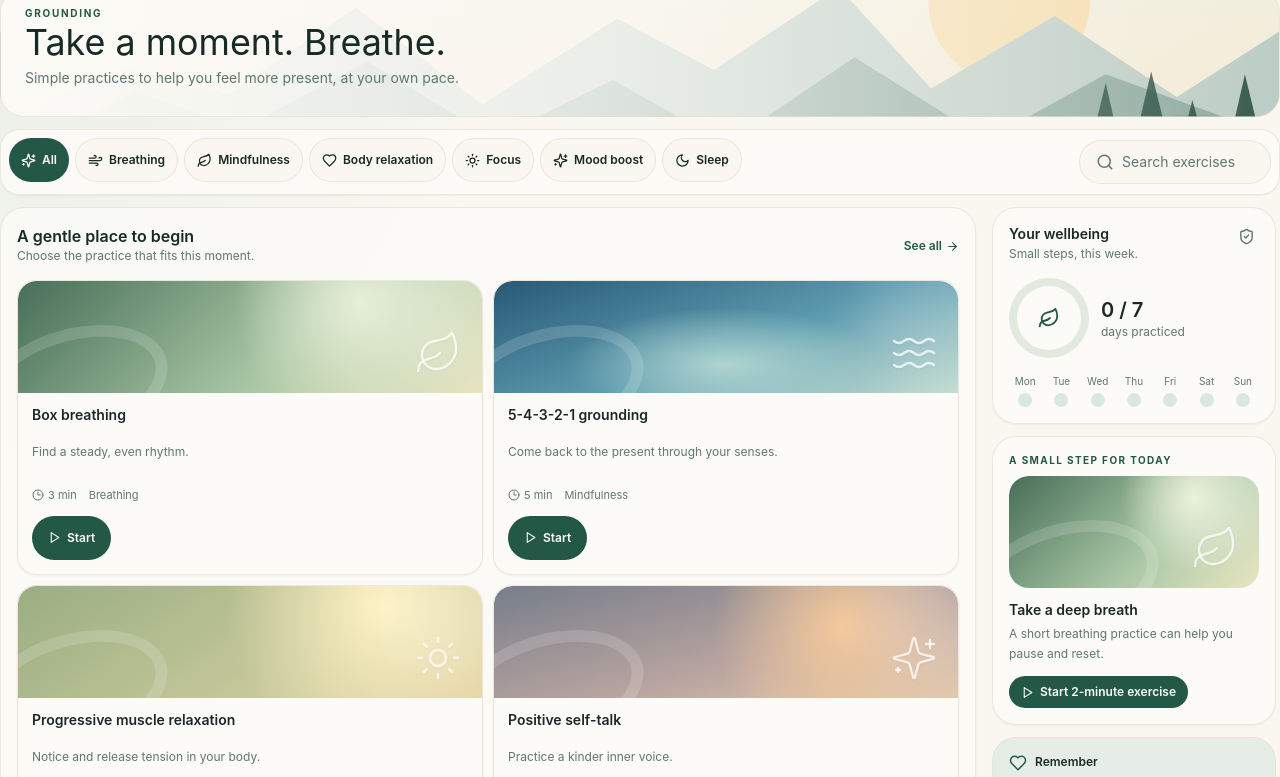
Test case: GroundingView › keeps sensory steps, reset, and browse usable in the session
This screenshot has width=1280, height=777.
Click the button with aria-label "Start 5-4-3-2-1 grounding". click: (548, 538)
box: [508,516,587,560]
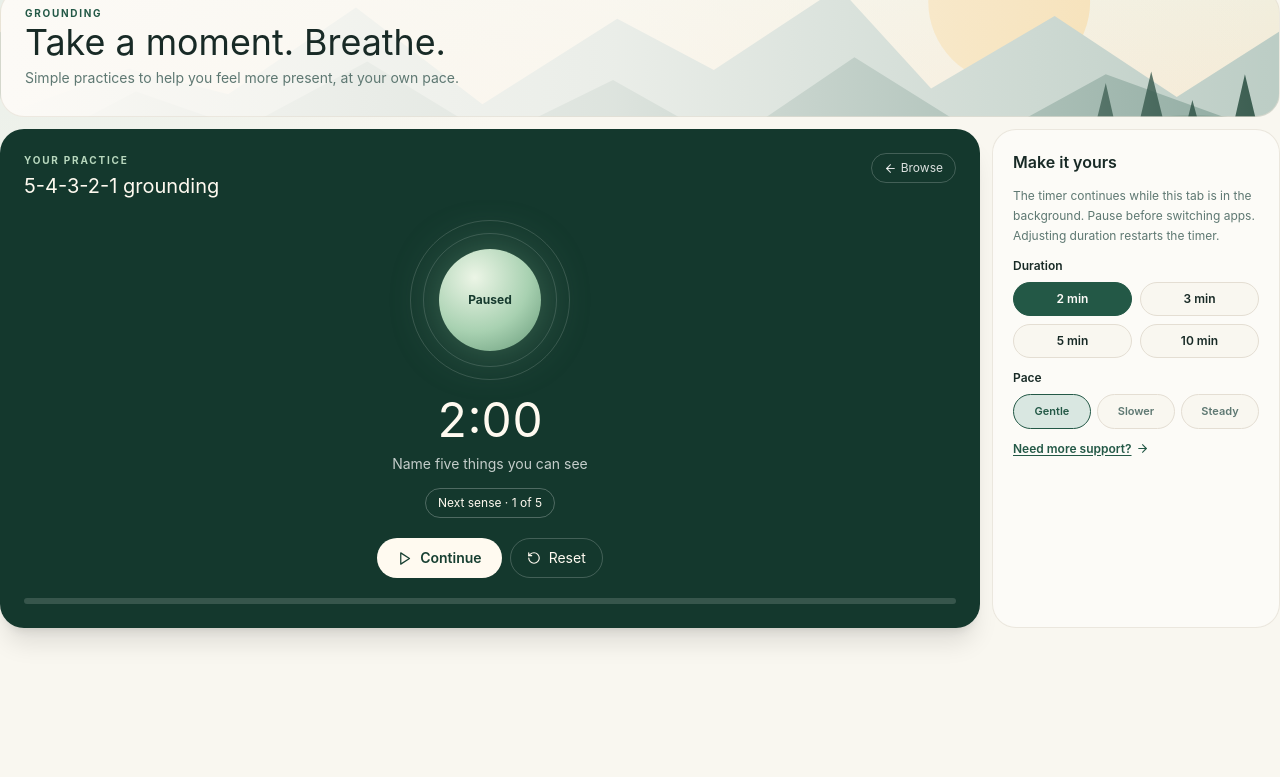
Click the button "Next sense · 1 of 5". click: (490, 503)
box: [425,488,555,518]
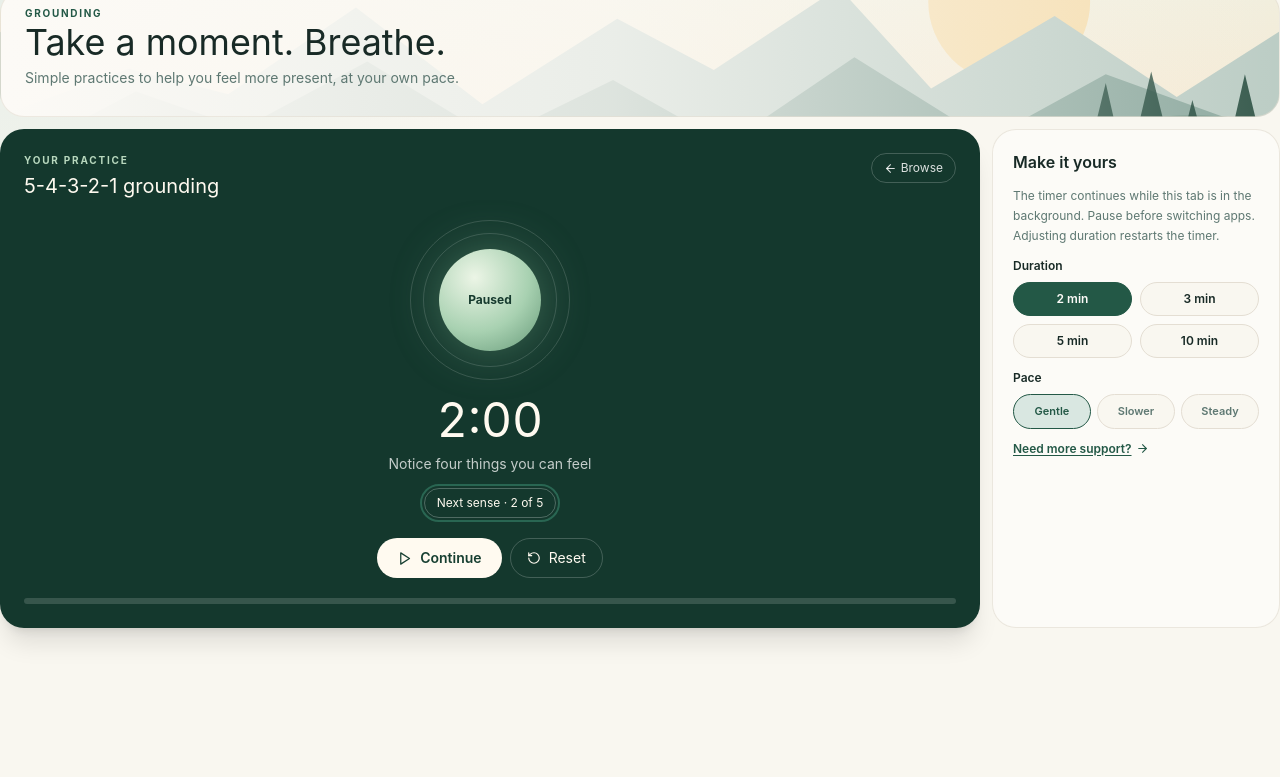
Expected: the text "Notice four things you can feel" is shown, [388,452,592,476]
Click the button "Reset". click: (556, 558)
box: [510,538,603,578]
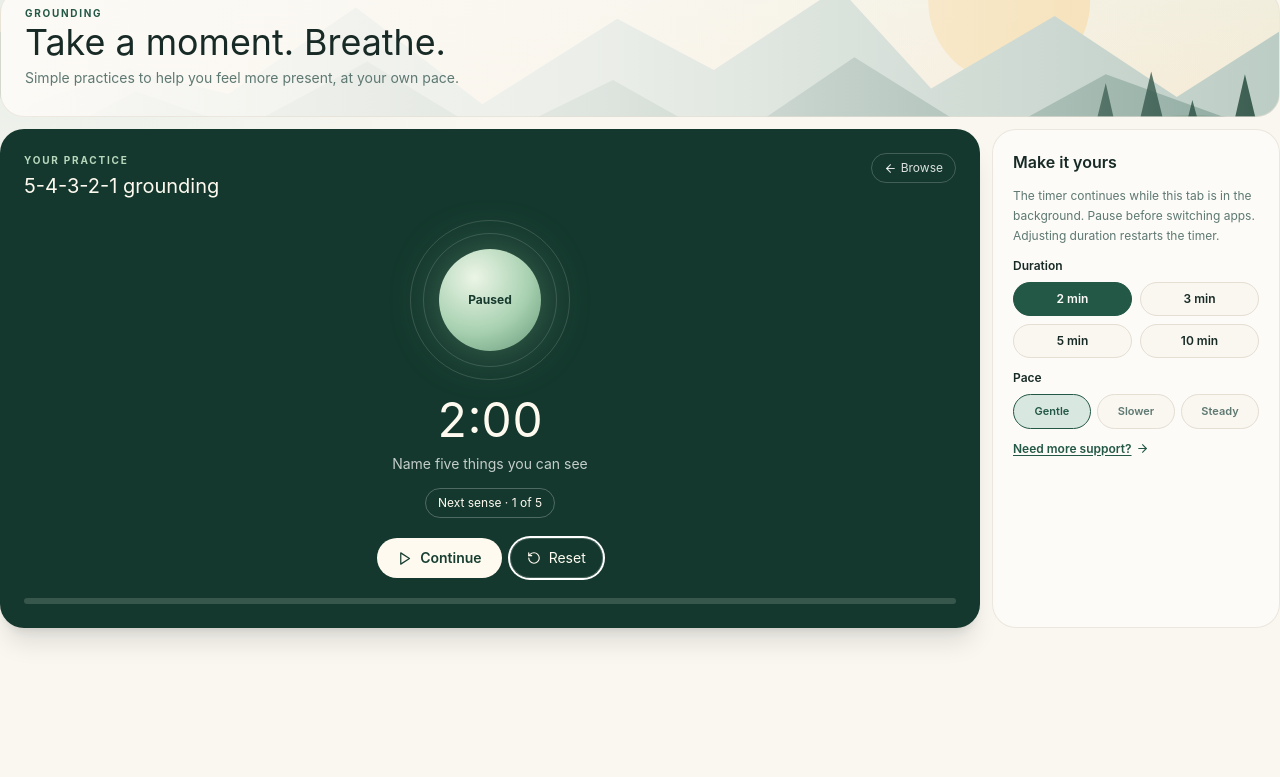
Click the button "Browse". click: (913, 168)
box: [871,153,956,183]
(page scrolled)
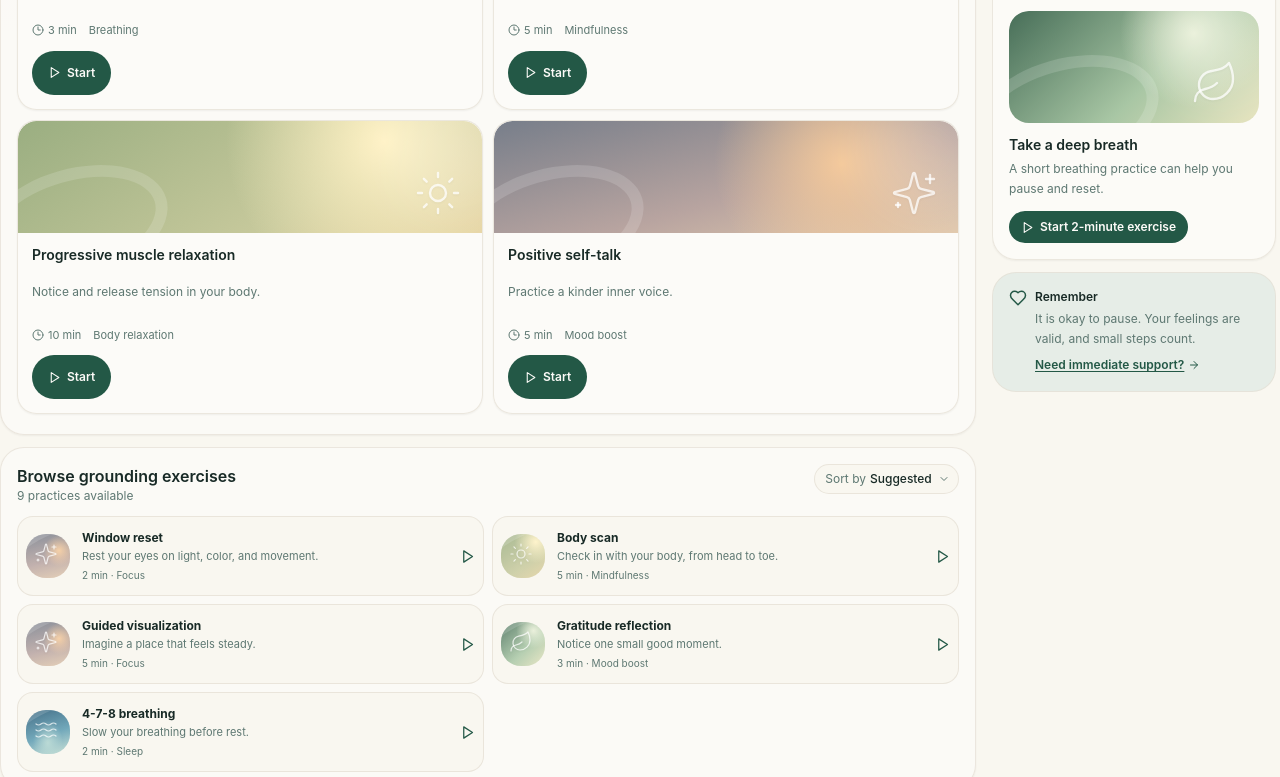
Expected: the heading "Browse grounding exercises" is shown, [17,466,236,486]
